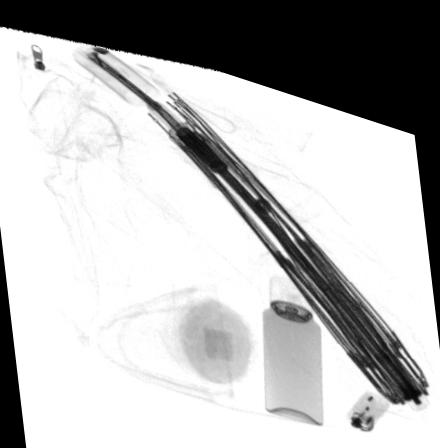Sprayer: (261, 257, 322, 406), (341, 365, 390, 408)
